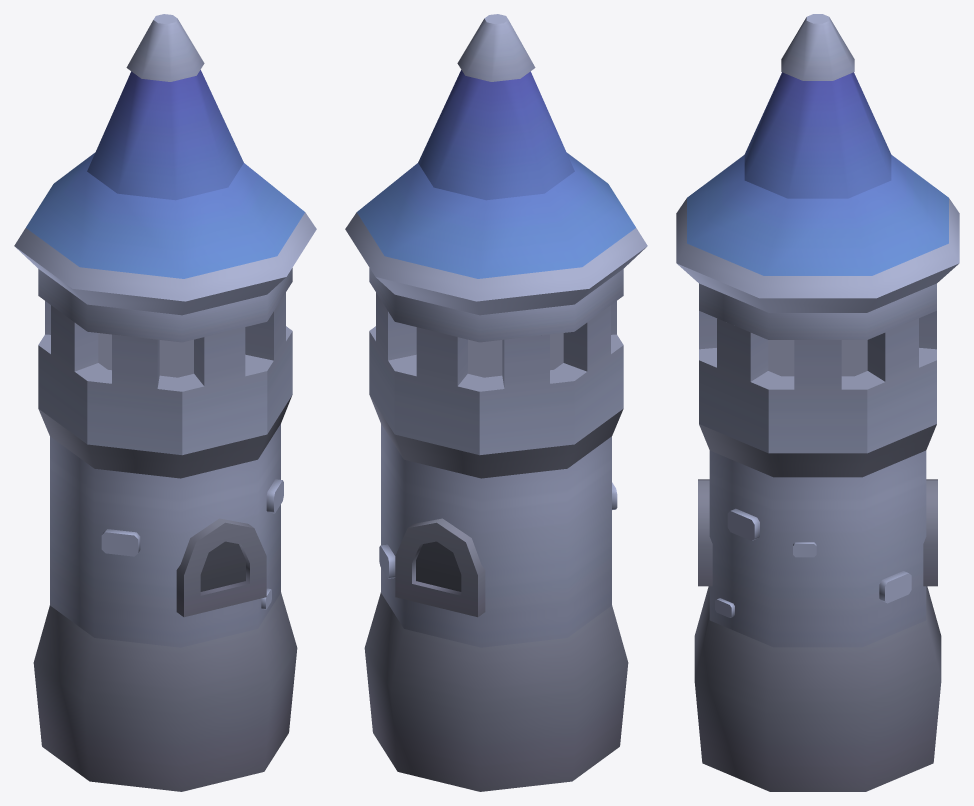
File: tower-complete-large.glb
3 views of the same model, side by side, from view 1: azimuth 30°, elevation 25°; view 2: azimuth 150°, elevation 25°; view 3: azimuth 270°, elevation 25° (orthographic).
Visible parts, largest first — view 1: tower-complete-large; view 2: tower-complete-large; view 3: tower-complete-large.
Part boxes in pixels (x1,y1,x2,y2): tower-complete-large: [14, 14, 316, 791]; tower-complete-large: [345, 14, 647, 791]; tower-complete-large: [676, 14, 959, 791].
Bounding box in the file's own units: 3.63 × 10.22 × 3.63.
Materials: 1 (1 with a texture image).
